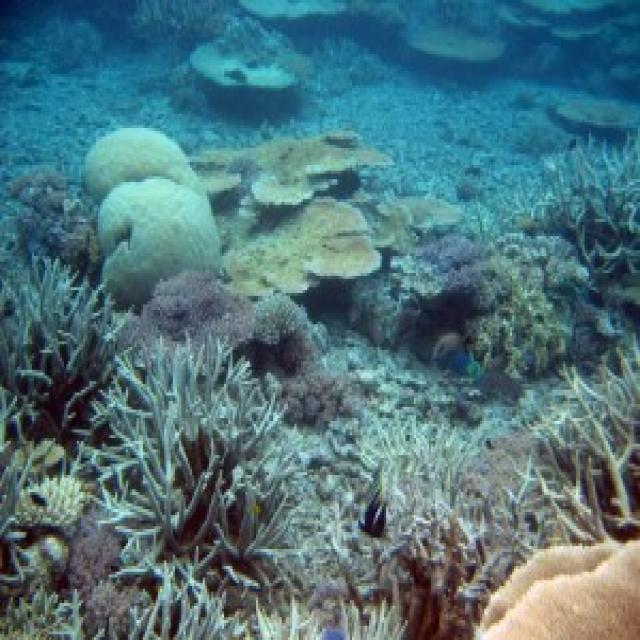Healthy: (95, 339, 308, 593), (357, 416, 554, 638), (349, 234, 575, 379), (1, 408, 131, 638), (532, 342, 639, 539), (123, 271, 315, 374), (129, 567, 404, 638), (539, 135, 639, 308), (3, 260, 118, 399), (481, 541, 639, 638), (101, 177, 219, 303), (225, 200, 379, 294), (193, 132, 391, 203), (12, 169, 97, 268), (84, 129, 204, 197)
